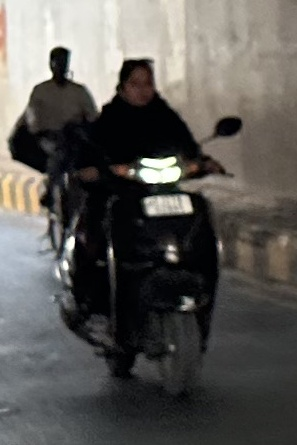BikeWithRider: (54, 47, 246, 399)
NoHelmet: (116, 56, 161, 108)
